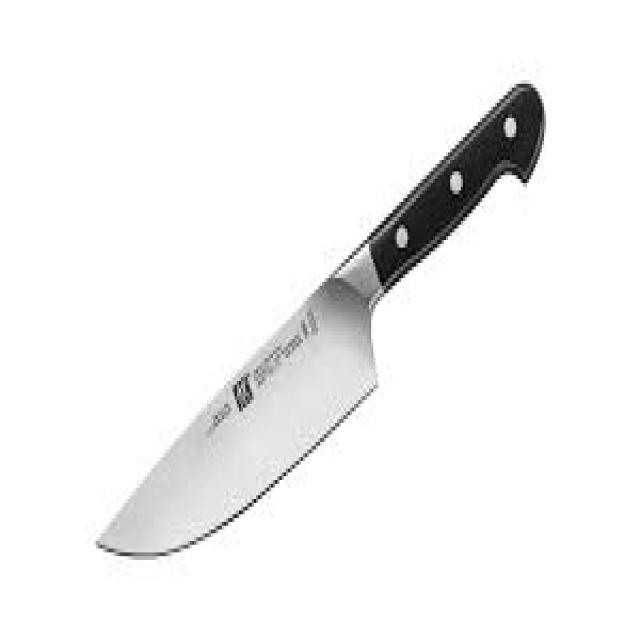knife: (92, 74, 549, 569)
